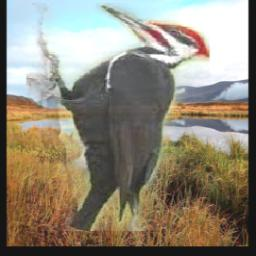Woodpecker: (26, 4, 210, 232)
